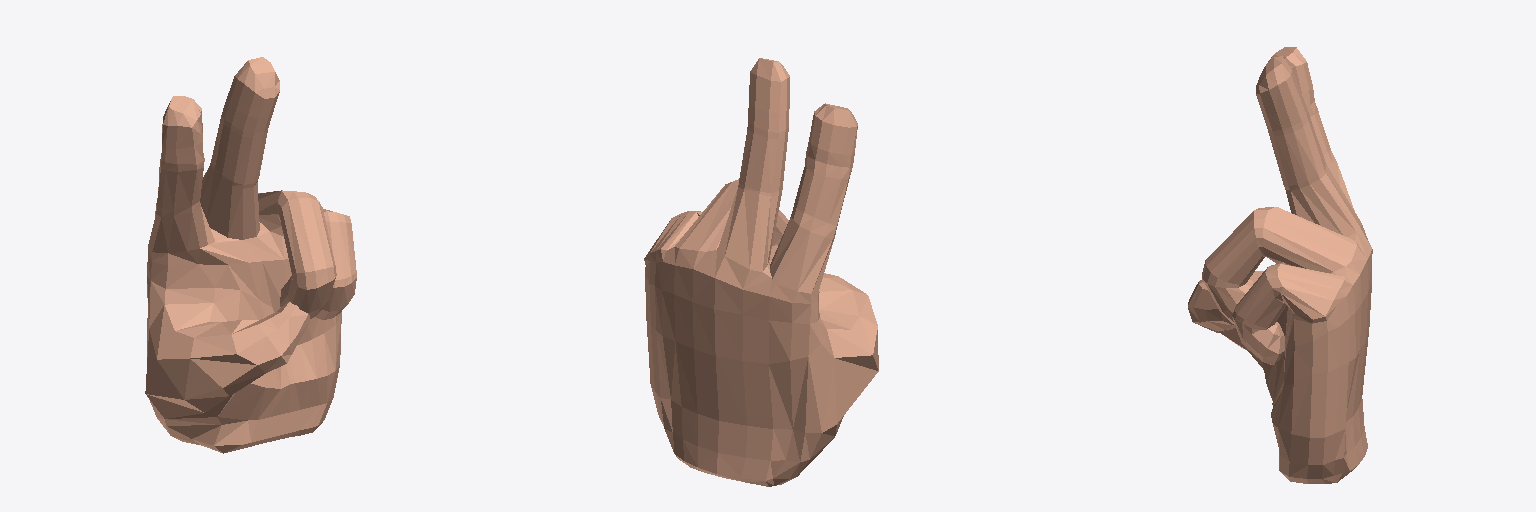
File: mao_2.obj
3 renders of one model, left to right at view 1: azimuth 30°, elevation 25°; view 2: azimuth 150°, elevation 25°; view 3: azimuth 270°, elevation 25°, orthographic.
Visible parts, largest first — view 1: Box04; view 2: Box04; view 3: Box04.
Part boxes in pixels (x1,y1,x2,y2): Box04: (145,57,356,453); Box04: (644,58,878,486); Box04: (1188,47,1372,483).
Bounding box in the file's own units: 132 × 243 × 104.